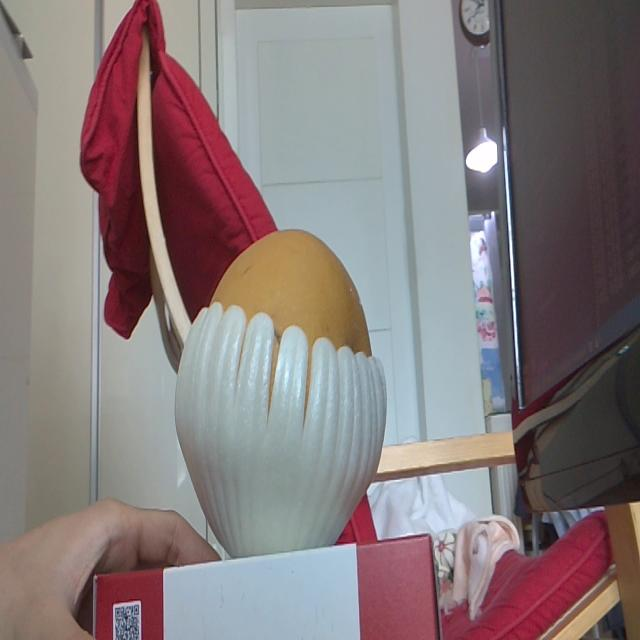pear: (175, 231, 388, 542)
